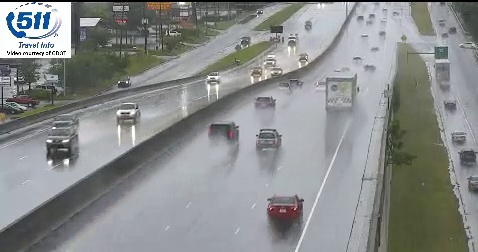car: (267, 194, 303, 220), (208, 122, 238, 143), (255, 129, 281, 149), (254, 96, 275, 111)
small-truck: (326, 72, 356, 111)
